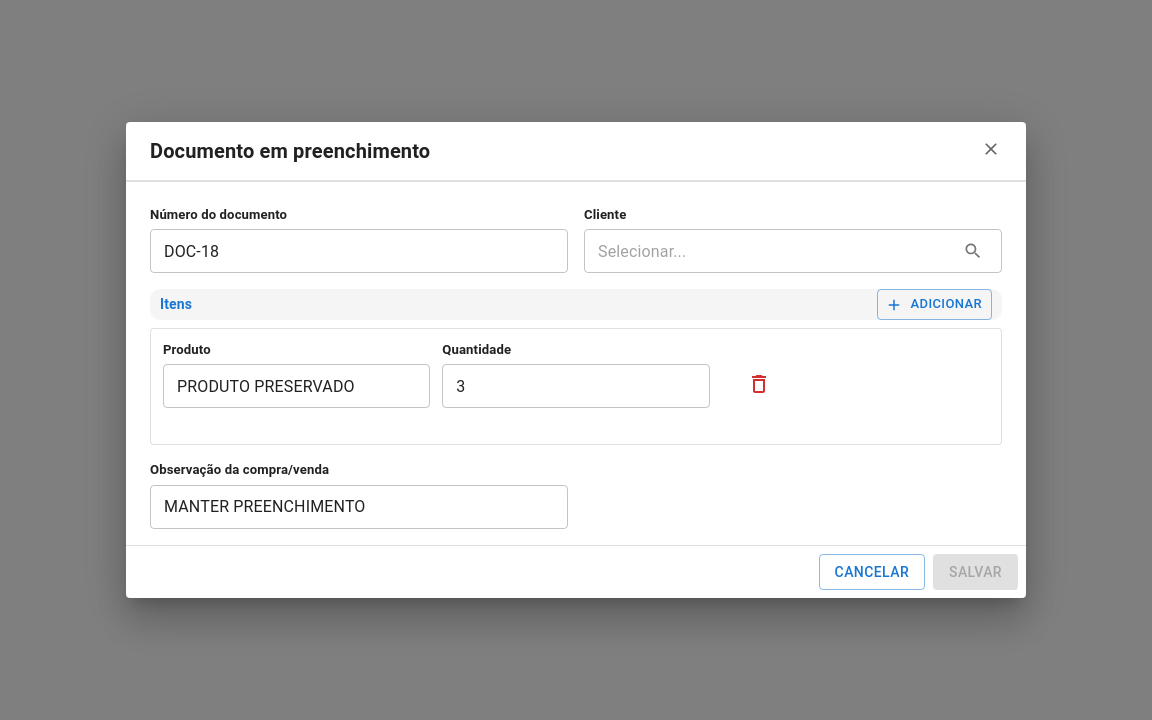
Test: cadastro no contexto do documento › sem gerenciamento não oferece criar Cliente
Click the field labelled "Cliente": (767, 251) [584, 231, 950, 271]
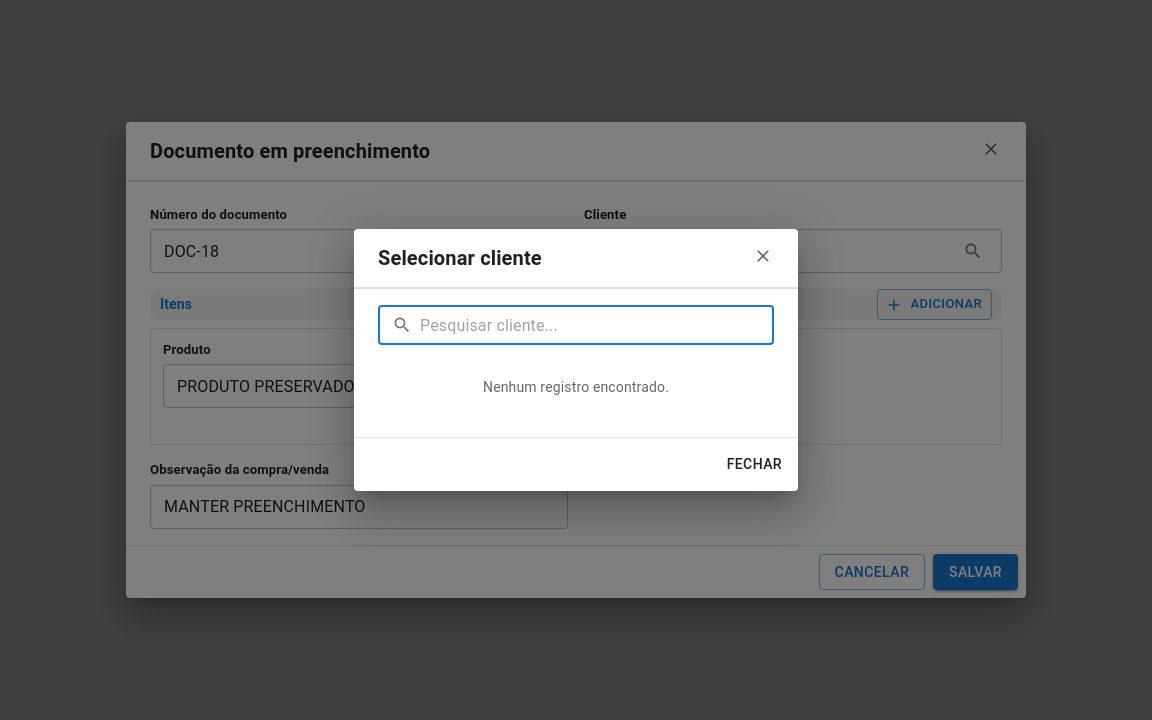
Result: the text "Nenhum registro encontrado." is shown at [483, 379, 669, 395]
